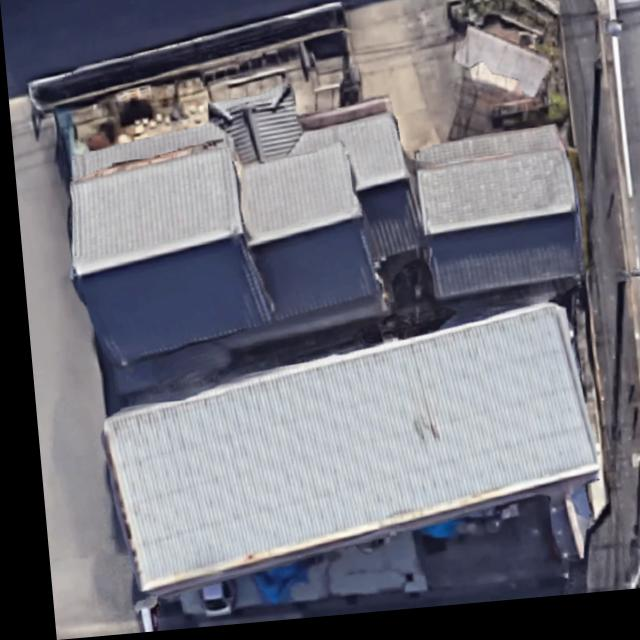Batiment: (96, 313, 589, 595), (67, 121, 414, 366), (413, 136, 576, 307)
